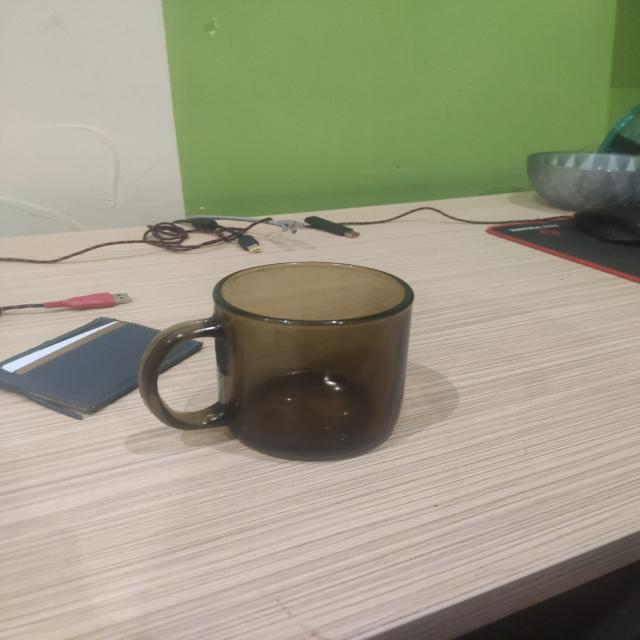cups: (138, 262, 414, 461)
